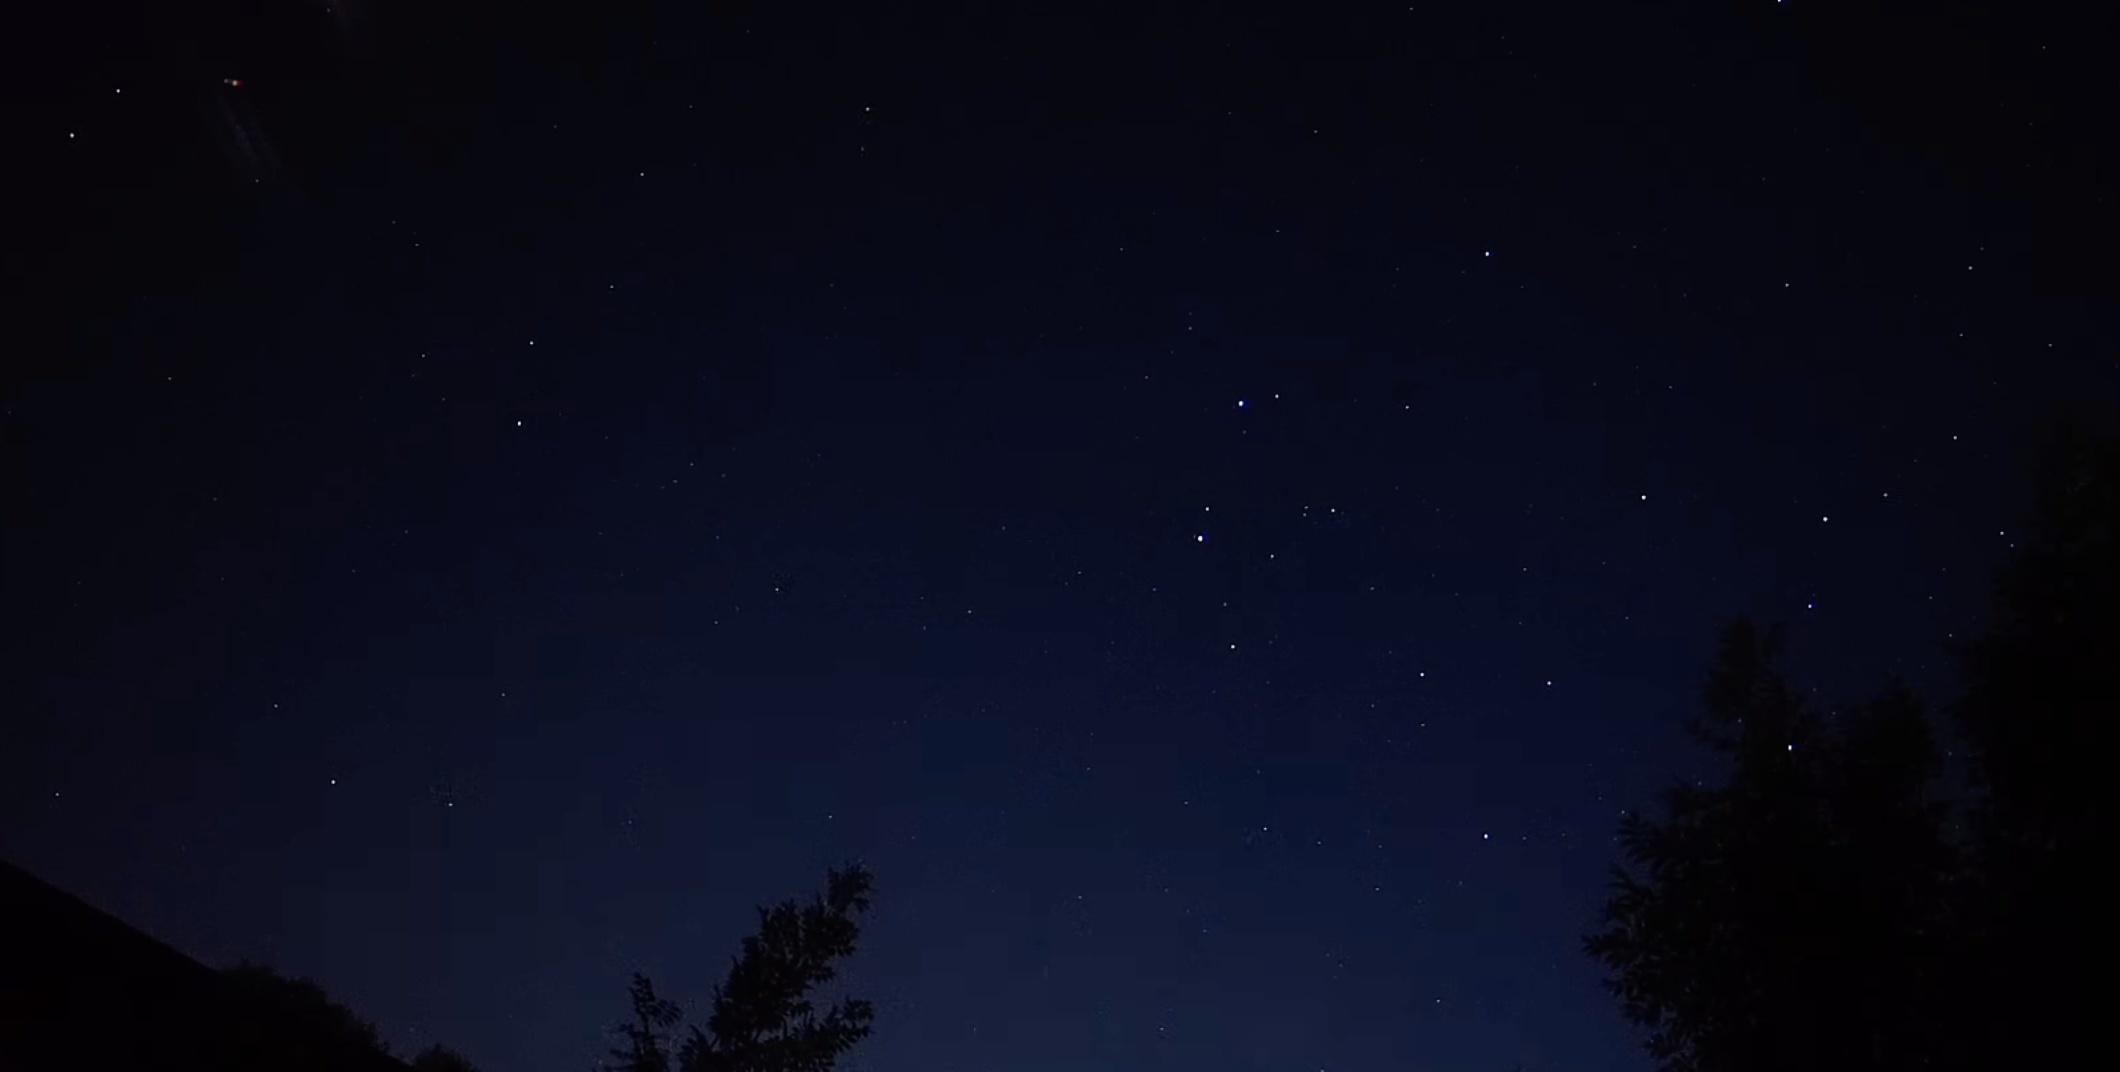Plane: (216, 71, 253, 96)
